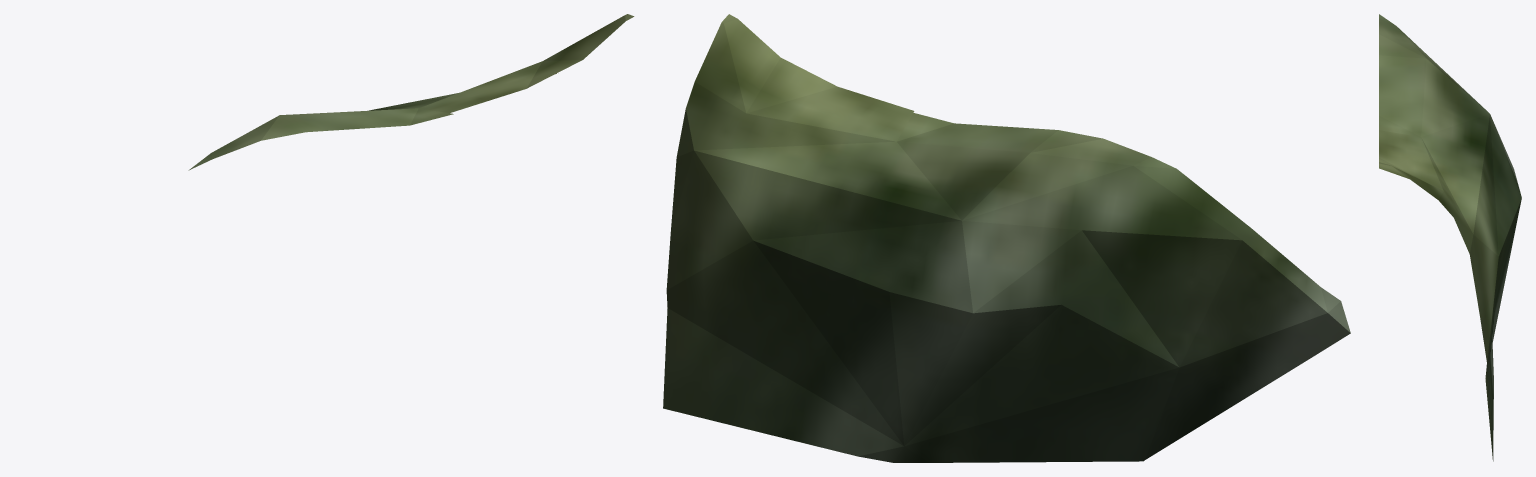
The picture shows the model from 3 angles, left to right: view 1: azimuth 30°, elevation 25°; view 2: azimuth 150°, elevation 25°; view 3: azimuth 270°, elevation 25°; orthographic projection. The views are drawn at different scales.
Bounding box in the file's own units: 0.9869 × 0.5251 × 0.227.
Materials: 1 (1 with a texture image).
